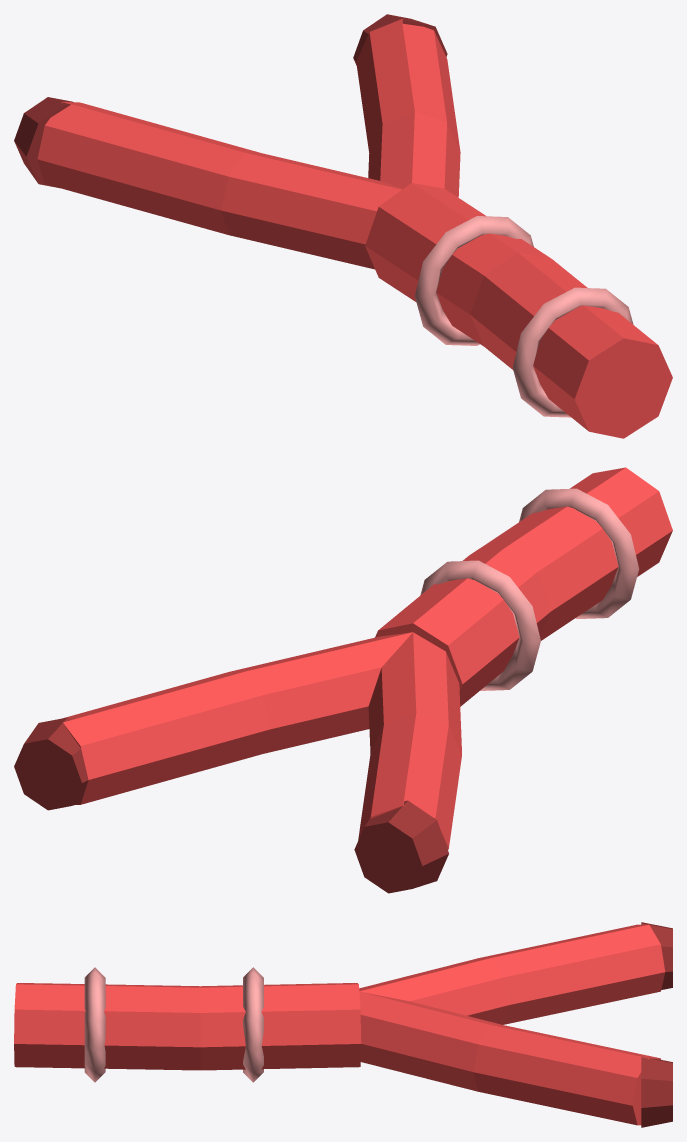
The model's file is Wood_Red.glb.
3 renders of one model, top to bottom at view 1: azimuth 30°, elevation 25°; view 2: azimuth 150°, elevation 25°; view 3: azimuth 270°, elevation 25°, orthographic. The views are drawn at different scales.
Visible parts, largest first — view 1: Wood_Red_Handle, Wood_Red_ArmL, Wood_Red_ArmR, Wood_Red_Band9, Wood_Red_Band3, Wood_Red_TipL, Wood_Red_TipR; view 2: Wood_Red_ArmR, Wood_Red_Handle, Wood_Red_ArmL, Wood_Red_TipL, Wood_Red_TipR, Wood_Red_Band9, Wood_Red_Band3; view 3: Wood_Red_Handle, Wood_Red_ArmR, Wood_Red_ArmL, Wood_Red_Band3, Wood_Red_Band9, Wood_Red_TipR, Wood_Red_TipL.
Part boxes in pixels (bbox=[...]): Wood_Red_Handle: bbox=[365, 183, 672, 438]; Wood_Red_ArmL: bbox=[37, 102, 402, 269]; Wood_Red_ArmR: bbox=[356, 19, 460, 197]; Wood_Red_Band9: bbox=[415, 216, 533, 345]; Wood_Red_Band3: bbox=[512, 287, 633, 417]; Wood_Red_TipL: bbox=[14, 97, 73, 188]; Wood_Red_TipR: bbox=[353, 14, 447, 65]; Wood_Red_ArmR: bbox=[62, 632, 412, 804]; Wood_Red_Handle: bbox=[375, 467, 672, 706]; Wood_Red_ArmL: bbox=[358, 632, 461, 849]; Wood_Red_TipL: bbox=[354, 800, 448, 893]; Wood_Red_TipR: bbox=[14, 717, 88, 810]; Wood_Red_Band9: bbox=[420, 560, 540, 690]; Wood_Red_Band3: bbox=[519, 488, 639, 618]; Wood_Red_Handle: bbox=[14, 983, 361, 1070]; Wood_Red_ArmR: bbox=[359, 991, 661, 1125]; Wood_Red_ArmL: bbox=[359, 924, 665, 1024]; Wood_Red_Band3: bbox=[84, 967, 105, 1082]; Wood_Red_Band9: bbox=[243, 967, 263, 1082]; Wood_Red_TipR: bbox=[641, 1057, 672, 1127]; Wood_Red_TipL: bbox=[641, 922, 672, 989].
Size of the model in its own units: 0.149 by 0.044 by 0.2497.
